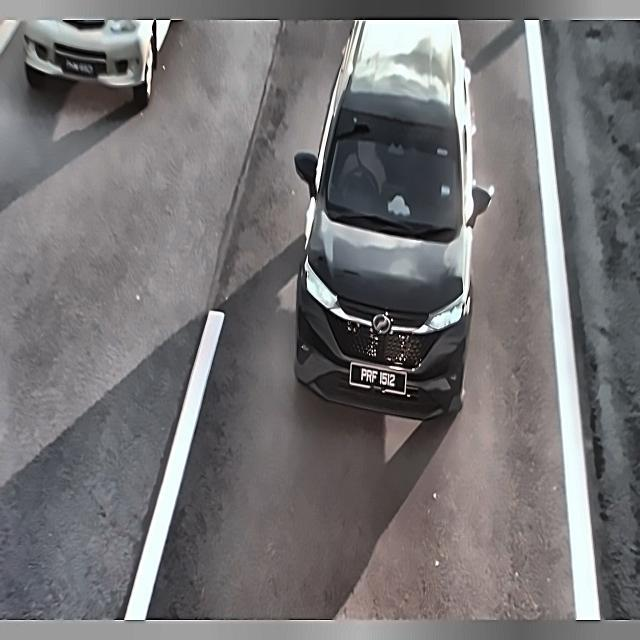car: (347, 356, 414, 401), (50, 38, 112, 83)
